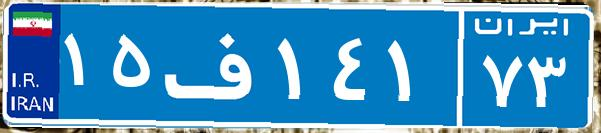1: (385, 28, 445, 110), (273, 28, 330, 110), (57, 26, 110, 107)
3: (525, 38, 570, 115)
4: (330, 28, 385, 110)
5: (110, 28, 158, 105)
7: (475, 38, 525, 113)
ف: (158, 15, 273, 115)
